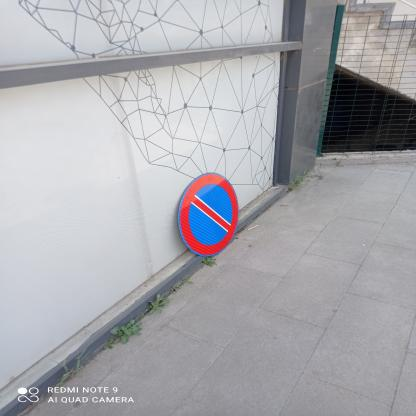No Waiting: (180, 174, 240, 258)
